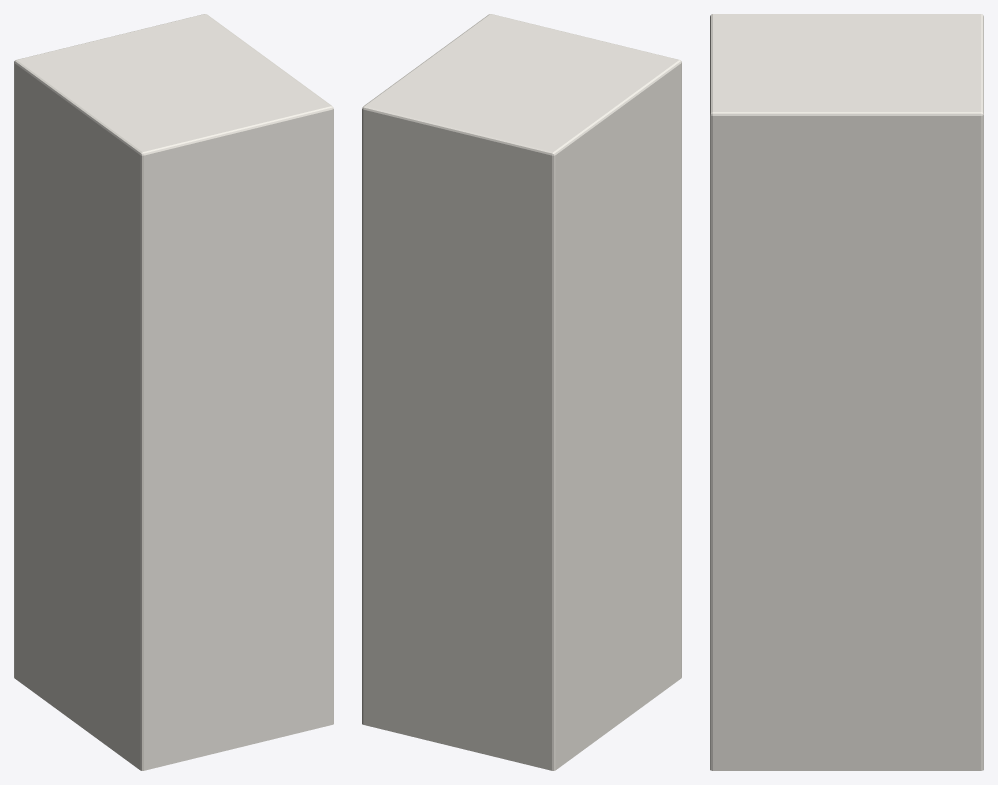
The model's file is Aur_DisplayStand_tall.gltf.
3 views of the same model, side by side, from view 1: azimuth 30°, elevation 25°; view 2: azimuth 150°, elevation 25°; view 3: azimuth 270°, elevation 25° (orthographic). The views are drawn at different scales.
Visible parts, largest first — view 1: Aur_DisplayStand_tall.001; view 2: Aur_DisplayStand_tall.001; view 3: Aur_DisplayStand_tall.001.
Part boxes in pixels (x1=…): Aur_DisplayStand_tall.001: x1=14, y1=14, x2=333, y2=770; Aur_DisplayStand_tall.001: x1=362, y1=14, x2=681, y2=770; Aur_DisplayStand_tall.001: x1=710, y1=14, x2=983, y2=770.
Size of what is drawn, in the model's own units: 0.3085 by 0.9419 by 0.3555.
Materials: 1 (1 with a texture image).
